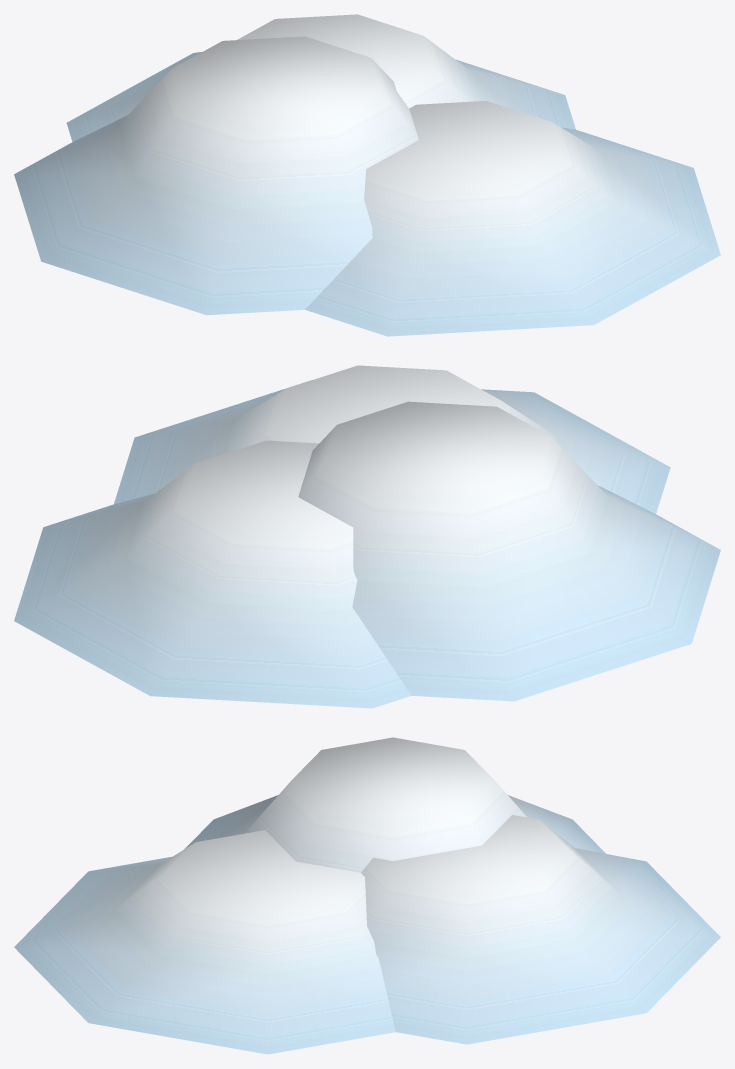
File: snow-pile.glb
3 views of the same model, one above another, from view 1: azimuth 30°, elevation 25°; view 2: azimuth 150°, elevation 25°; view 3: azimuth 270°, elevation 25° (orthographic). The views are drawn at different scales.
Parts seen in each view (by area): view 1: snow-pile; view 2: snow-pile; view 3: snow-pile.
Part boxes in pixels (left/top/right/bottom): snow-pile: left=14, top=14, right=720, bottom=336; snow-pile: left=14, top=365, right=720, bottom=708; snow-pile: left=14, top=737, right=720, bottom=1054.
Bounding box in the file's own units: 0.9934 × 0.2 × 1.11.
Materials: 1 (1 with a texture image).
